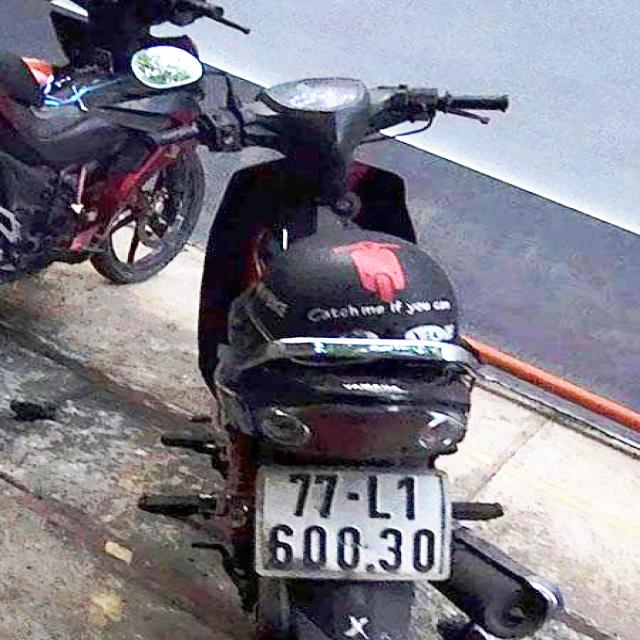license_plate: (263, 469, 448, 575)
